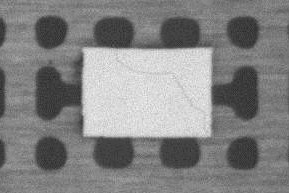DIE_CRACK: (114, 55, 205, 115)
